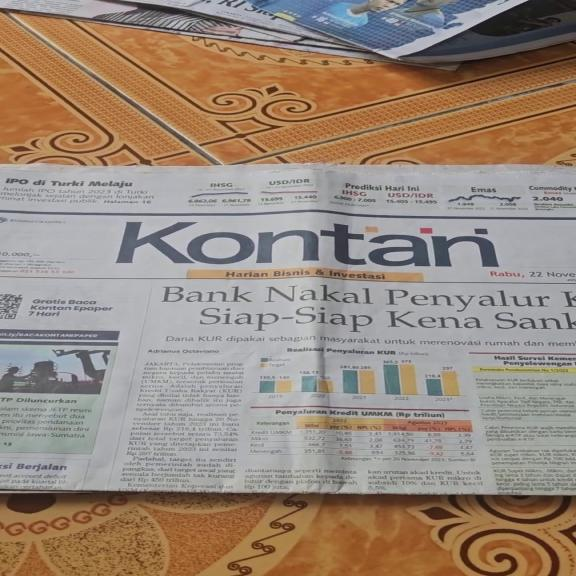Kertas: (4, 166, 570, 484)
